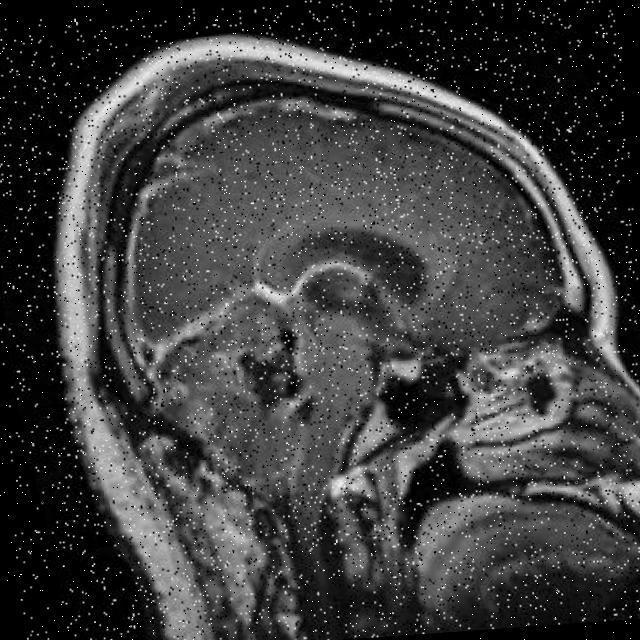CN: (157, 230, 386, 434)
